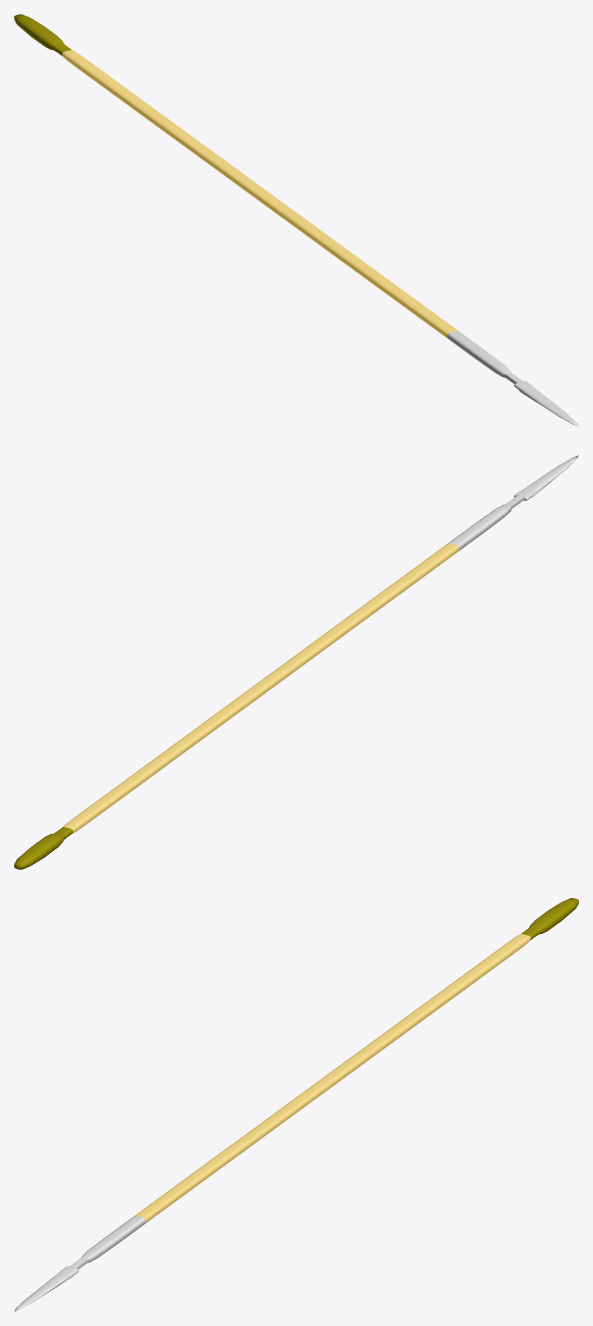
The model's file is spearPrefab.fbx.
3 views of the same model, one above another, from view 1: azimuth 30°, elevation 25°; view 2: azimuth 150°, elevation 25°; view 3: azimuth 330°, elevation 25° (orthographic).
Visible parts, largest first — view 1: Body.001; view 2: Body.001; view 3: Body.001.
Boxes of the visible parts, left/top/right/bottom form: Body.001: left=14, top=14, right=578, bottom=426; Body.001: left=14, top=455, right=578, bottom=869; Body.001: left=14, top=898, right=578, bottom=1311.
Bounding box in the file's own units: 0.0735 × 0.0458 × 4.68.
